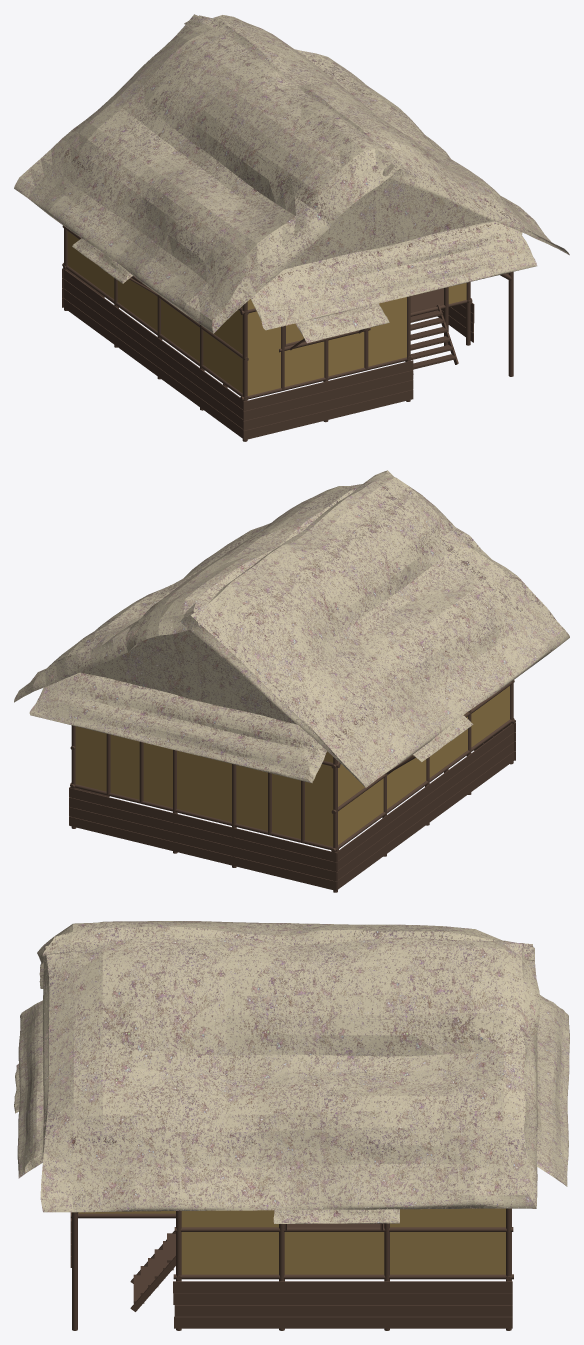
The picture shows the model from 3 angles, top to bottom: view 1: azimuth 30°, elevation 25°; view 2: azimuth 150°, elevation 25°; view 3: azimuth 270°, elevation 25°; orthographic projection. The views are drawn at different scales.
Visible parts, largest first — view 1: 6; view 2: 6; view 3: 6.
Part boxes in pixels (box(x1,y1,x2,y2)): 6: box(14, 14, 569, 441); 6: box(14, 470, 569, 892); 6: box(14, 921, 569, 1330).
Bounding box in the file's own units: 29.78 × 20.48 × 31.97.
Materials: 5 (5 with a texture image).
